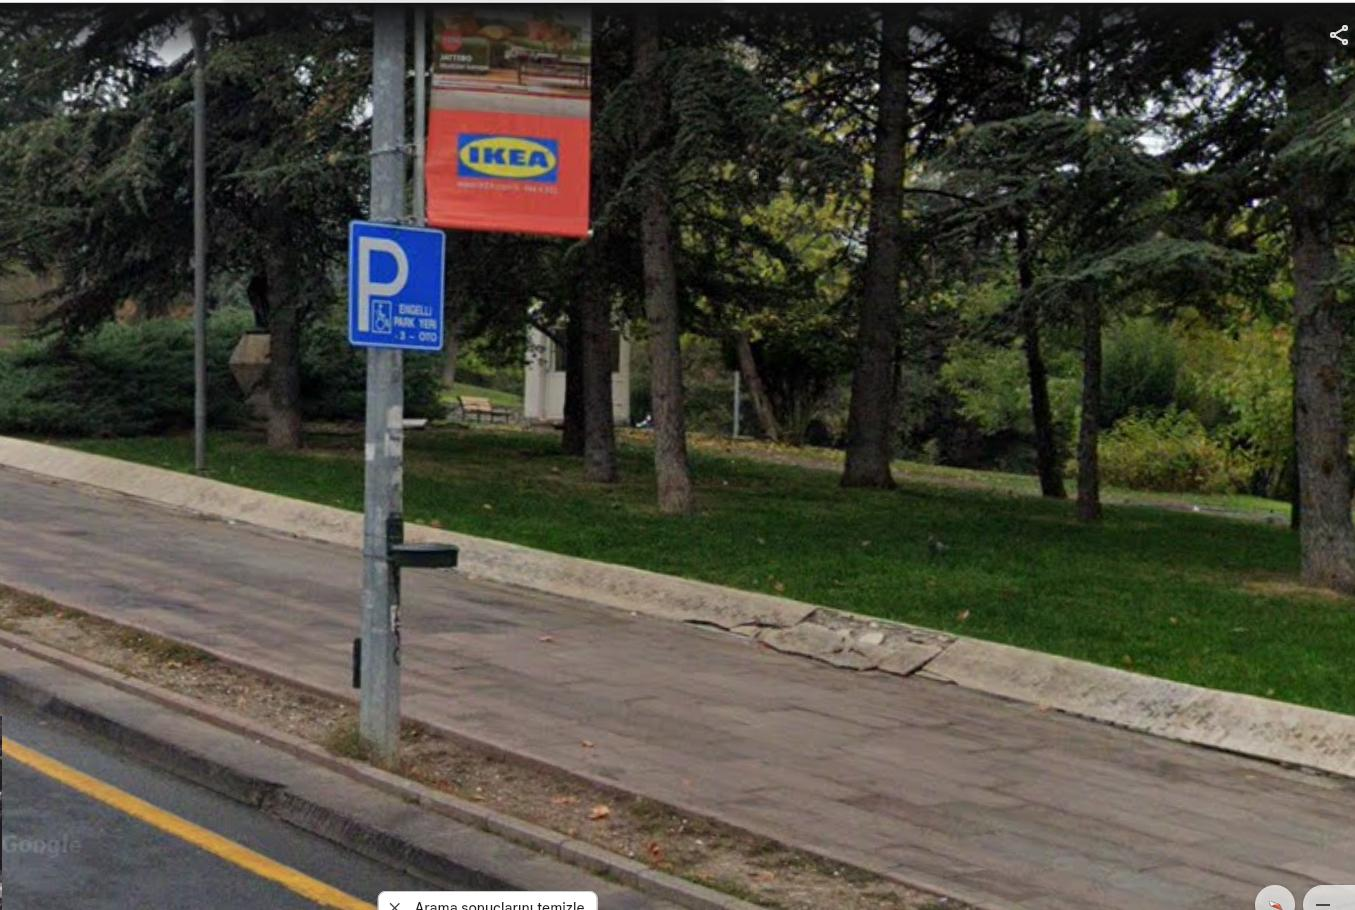park: (351, 223, 440, 348)
